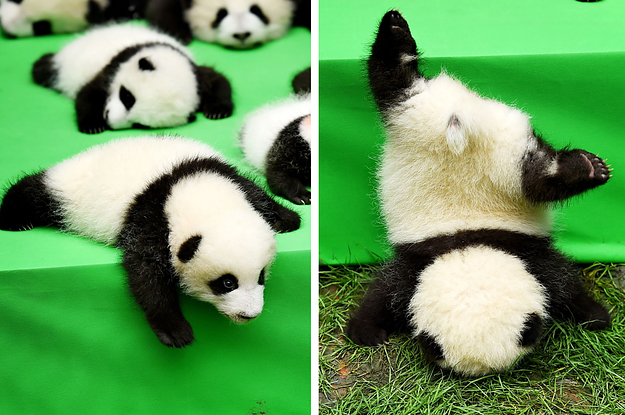panda: (352, 5, 612, 391), (1, 120, 294, 352)
